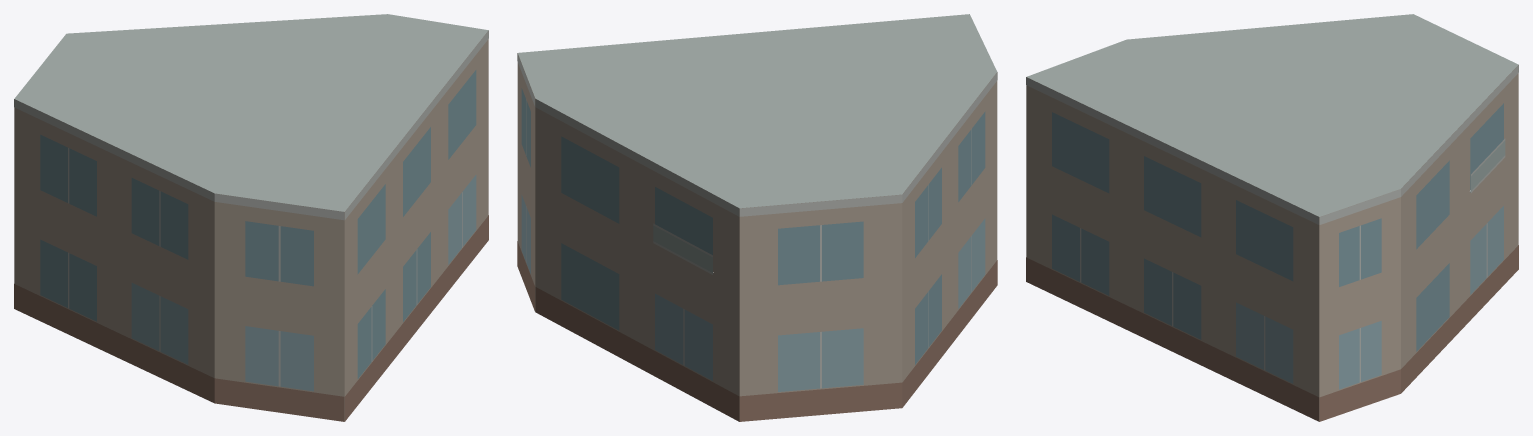
File: survey-upis-32930521.glb
3 renders of one model, left to right at view 1: azimuth 30°, elevation 25°; view 2: azimuth 150°, elevation 25°; view 3: azimuth 270°, elevation 25°, orthographic. The views are drawn at different scales.
Parts seen in each view (by area): view 1: survey-upis-32930521.tmp; view 2: survey-upis-32930521.tmp; view 3: survey-upis-32930521.tmp.
Boxes of the visible parts, x1=… form: survey-upis-32930521.tmp: x1=14, y1=14, x2=488, y2=421; survey-upis-32930521.tmp: x1=517, y1=14, x2=997, y2=421; survey-upis-32930521.tmp: x1=1026, y1=14, x2=1518, y2=421.
Bounding box in the file's own units: 12.97 × 6.1 × 13.3.
